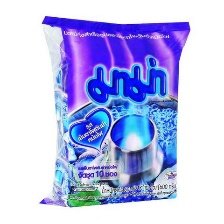snack: (30, 10, 196, 214)
